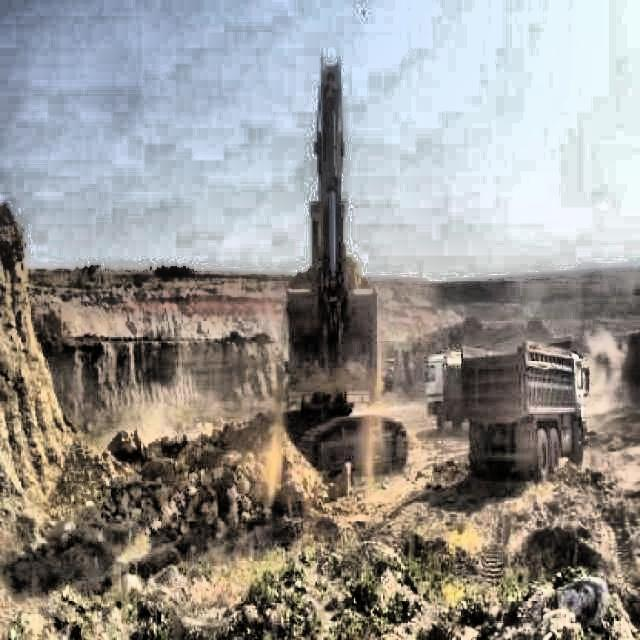dump_truck: (466, 338, 588, 482), (424, 348, 470, 430)
excavator: (260, 52, 409, 482)
